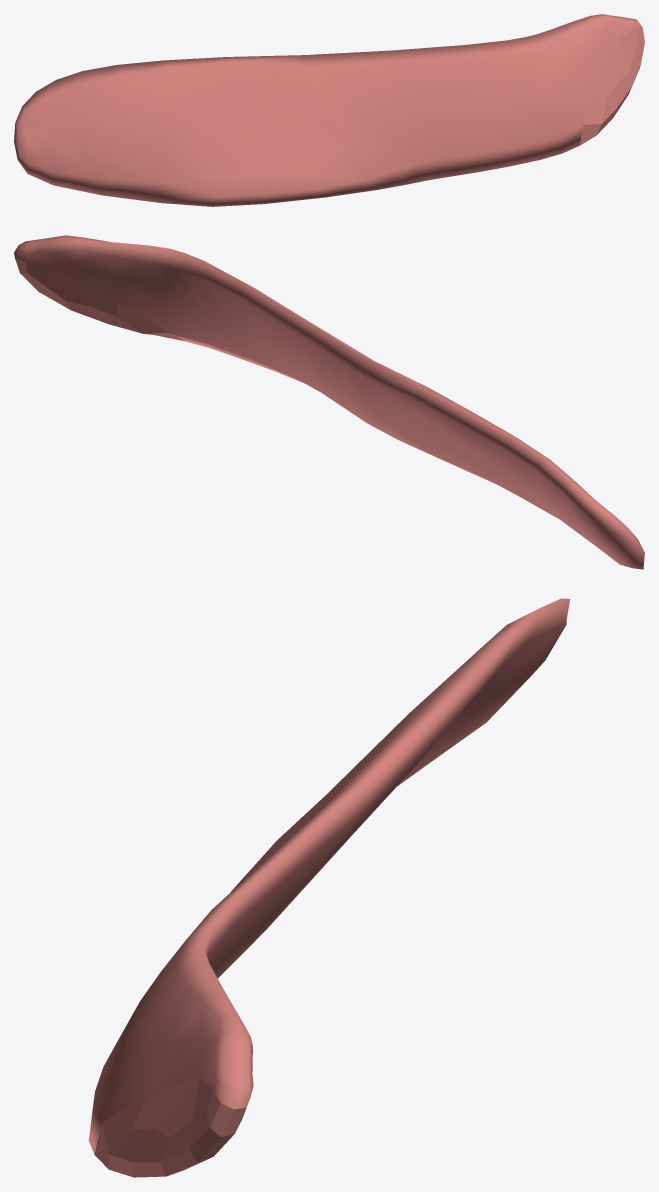
3 renders of one model, top to bottom at view 1: azimuth 30°, elevation 25°; view 2: azimuth 150°, elevation 25°; view 3: azimuth 270°, elevation 25°, orthographic. The views are drawn at different scales.
Parts seen in each view (by area): view 1: ZA_d0ac15623fe756b0; view 2: ZA_d0ac15623fe756b0; view 3: ZA_d0ac15623fe756b0.
Boxes of the visible parts, x1,y1,x2,y2 form: ZA_d0ac15623fe756b0: [14, 14, 644, 206]; ZA_d0ac15623fe756b0: [14, 235, 644, 569]; ZA_d0ac15623fe756b0: [88, 598, 570, 1177].
Bounding box in the file's own units: 0.0157 × 0.00297 × 0.0059.
